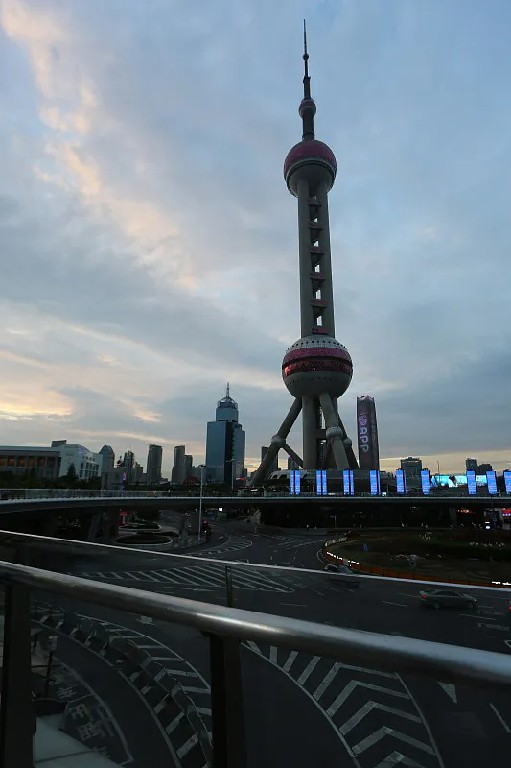Oriental: (253, 21, 361, 482)
